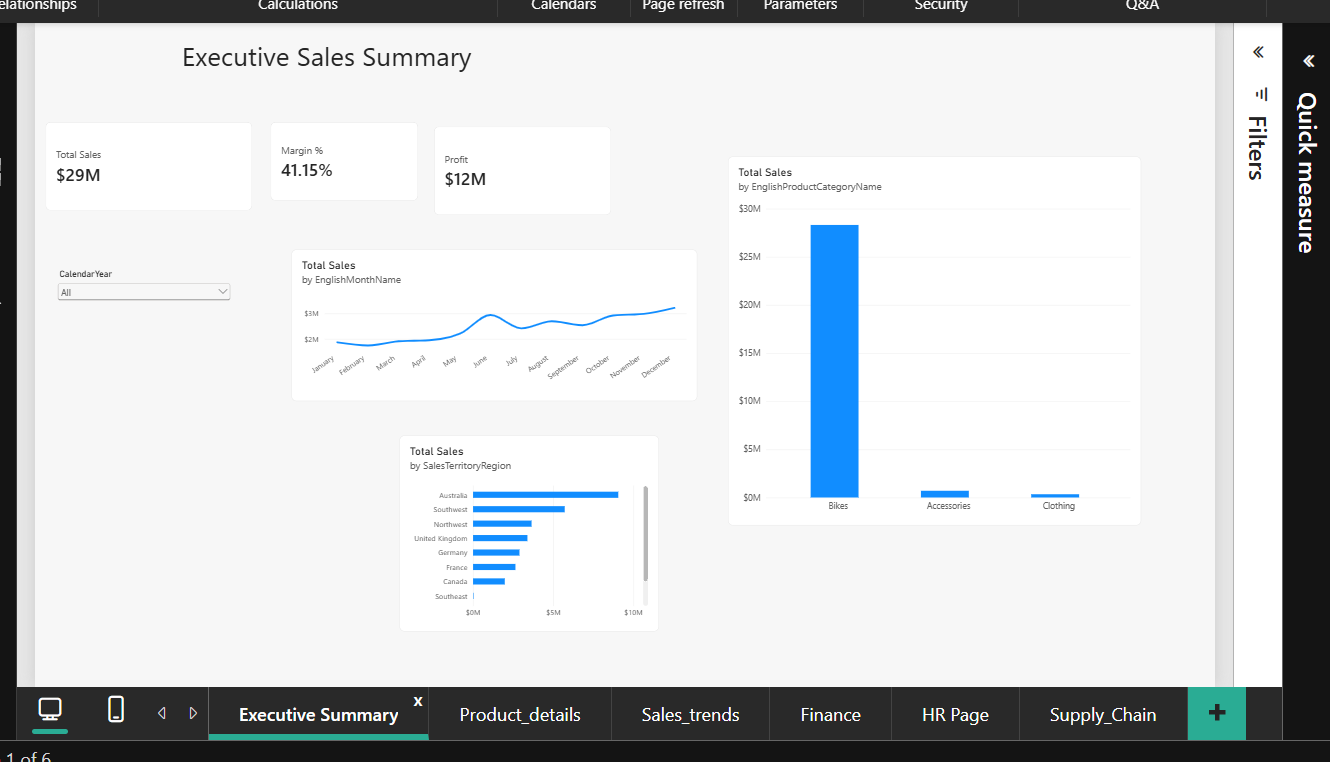

Layout of this report page (visuals, bound fields, positions):
{"tool":"powerbi","page":{"name":"Executive Summary","canvas":[1920,1080],"ordinal":0},"visuals":[{"type":"cardVisual","fields":{"Data":["Sales.Margin %"]},"box":[384,160,240,128],"z":0},{"type":"cardVisual","fields":{"Data":["Sales.Profit"]},"box":[648,168,288,144],"z":1000},{"type":"cardVisual","fields":{"Data":["Sales.Total Sales"]},"box":[16,160,336,144],"z":2000},{"type":"slicer","fields":{"Values":["Date.CalendarYear"]},"box":[32,400,291.2,140],"z":3000},{"type":"lineChart","fields":{"Category":["Date.EnglishMonthName"],"Y":["Sales.Total Sales"]},"box":[416,368,660,246.7],"z":4000},{"type":"clusteredBarChart","fields":{"Category":["Territory.SalesTerritoryRegion"],"Y":["Sales.Total Sales"]},"box":[592,672,421.7,318.3],"z":5000},{"type":"textbox","box":[96,14,150,192],"z":6000},{"type":"textbox","box":[240,24,768,96],"z":7000},{"type":"clusteredColumnChart","fields":{"Category":["Product.EnglishProductCategoryName"],"Y":["Sales.Total Sales"]},"box":[1128,216,672,600],"z":8000}]}

Visuals, with their boxes on the page's 1920x1080 design canvas (x1, y1, x2, y2). These are canvas units, not pixel positions in the 1330x762 screenshot, which may show the page scaled, cropped or inside an application window:
cardVisual - Sales.Margin %: 384 160 624 288
cardVisual - Sales.Profit: 648 168 936 312
cardVisual - Sales.Total Sales: 16 160 352 304
slicer - Date.CalendarYear: 32 400 323 540
lineChart - Date.EnglishMonthName x Sales.Total Sales: 416 368 1076 615
clusteredBarChart - Territory.SalesTerritoryRegion x Sales.Total Sales: 592 672 1014 990
textbox: 96 14 246 206
textbox: 240 24 1008 120
clusteredColumnChart - Product.EnglishProductCategoryName x Sales.Total Sales: 1128 216 1800 816
